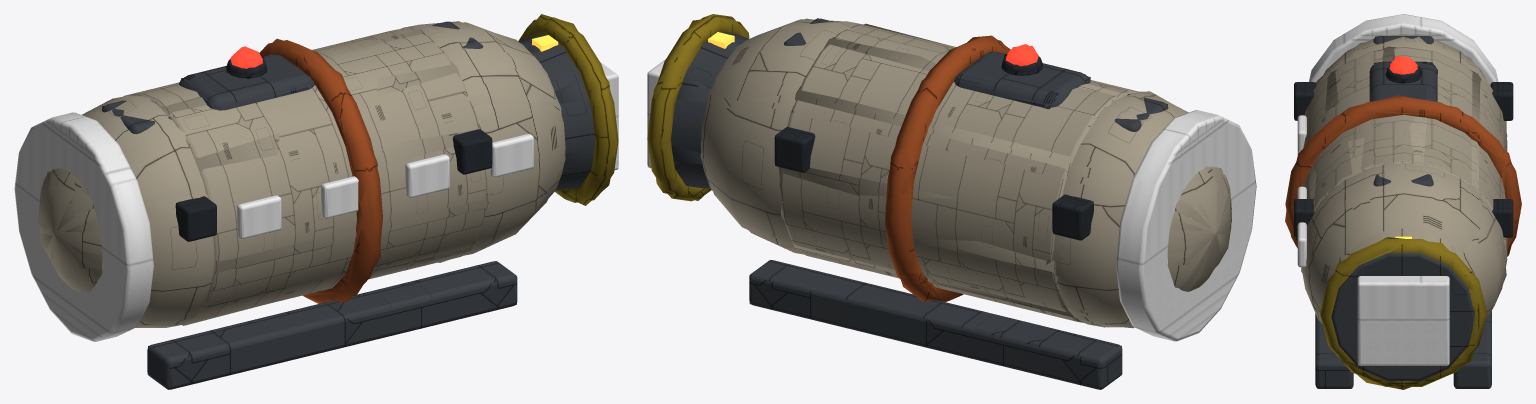
File: place_47a_rescue_capsule.glb
The picture shows the model from 3 angles, left to right: view 1: azimuth 30°, elevation 25°; view 2: azimuth 150°, elevation 25°; view 3: azimuth 270°, elevation 25°; orthographic projection. The views are drawn at different scales.
Parts seen in each view (by area): view 1: LOD0_Hull, LOD0_Armor, LOD0_MechanicalDark, LOD2_Hull, LOD1_Hull, LOD0_Livery, LOD0_Warning, LOD0_Mechanical, LOD1_Livery, LOD2_Livery, LOD2_Warning, LOD2_Armor (+3 smaller); view 2: LOD0_Hull, LOD0_Armor, LOD2_Hull, LOD0_MechanicalDark, LOD1_Hull, LOD0_Livery, LOD0_Warning, LOD0_Mechanical, LOD2_Livery, LOD1_Livery, LOD2_Warning, LOD1_Warning (+3 smaller); view 3: LOD0_Hull, LOD0_MechanicalDark, LOD0_Armor, LOD2_Hull, LOD1_Hull, LOD0_Livery, LOD0_Warning, LOD0_Mechanical, LOD2_Livery, LOD1_Livery, LOD2_Warning, LOD1_Warning (+4 smaller).
Part boxes in pixels (bbox=[...]): LOD0_Hull: bbox=[38, 22, 565, 327]; LOD0_Armor: bbox=[102, 22, 595, 389]; LOD0_MechanicalDark: bbox=[15, 62, 618, 341]; LOD2_Hull: bbox=[40, 21, 565, 325]; LOD1_Hull: bbox=[38, 22, 565, 325]; LOD0_Livery: bbox=[259, 40, 382, 302]; LOD0_Warning: bbox=[518, 17, 618, 202]; LOD0_Mechanical: bbox=[175, 59, 492, 241]; LOD1_Livery: bbox=[260, 40, 382, 300]; LOD2_Livery: bbox=[261, 38, 380, 303]; LOD2_Warning: bbox=[519, 14, 617, 205]; LOD2_Armor: bbox=[102, 43, 594, 389]; LOD0_Hull: bbox=[701, 19, 1231, 327]; LOD0_Armor: bbox=[671, 18, 1168, 389]; LOD2_Hull: bbox=[700, 18, 1231, 328]; LOD0_MechanicalDark: bbox=[647, 59, 1256, 341]; LOD1_Hull: bbox=[701, 20, 1231, 327]; LOD0_Livery: bbox=[885, 37, 1009, 301]; LOD0_Warning: bbox=[647, 14, 746, 201]; LOD0_Mechanical: bbox=[774, 56, 1093, 240]; LOD2_Livery: bbox=[885, 35, 1010, 301]; LOD1_Livery: bbox=[885, 37, 1009, 298]; LOD2_Warning: bbox=[653, 17, 749, 200]; LOD1_Warning: bbox=[647, 15, 743, 197]; LOD0_Hull: bbox=[1301, 34, 1507, 322]; LOD0_MechanicalDark: bbox=[1297, 14, 1498, 365]; LOD0_Armor: bbox=[1315, 36, 1491, 388]; LOD2_Hull: bbox=[1301, 34, 1506, 324]; LOD1_Hull: bbox=[1304, 35, 1506, 311]; LOD0_Livery: bbox=[1285, 97, 1521, 248]; LOD0_Warning: bbox=[1320, 239, 1487, 386]; LOD0_Mechanical: bbox=[1294, 66, 1513, 237]; LOD2_Livery: bbox=[1285, 95, 1520, 256]; LOD1_Livery: bbox=[1286, 97, 1521, 249]; LOD2_Warning: bbox=[1320, 237, 1477, 389]; LOD1_Warning: bbox=[1323, 239, 1487, 386].
Size of what is drawn, in the model's own units: 7.05 by 3.45 by 3.08.
Materials: 9 (6 with a texture image).
